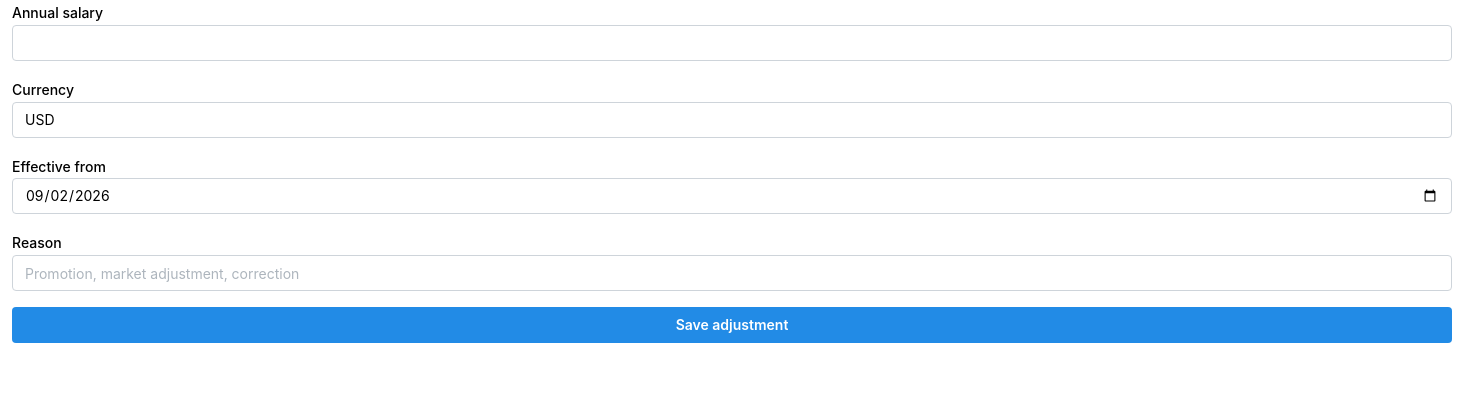
Test: requires a reason
In the field labelled "Annual salary": (732, 43) x1=12 y1=25 x2=1452 y2=61, type "120000"
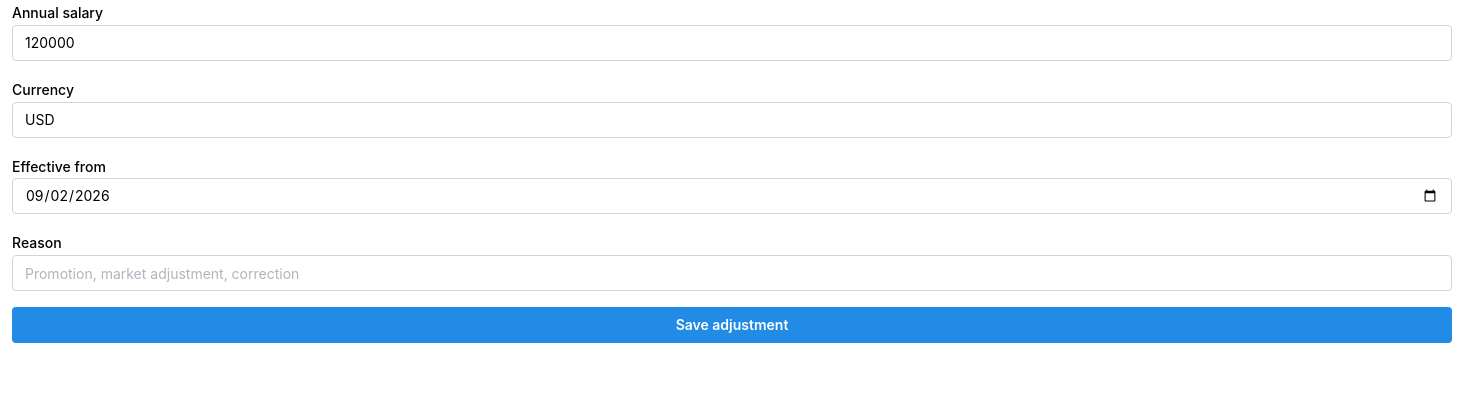
Click the button "Save adjustment": (732, 325) x1=12 y1=307 x2=1452 y2=343
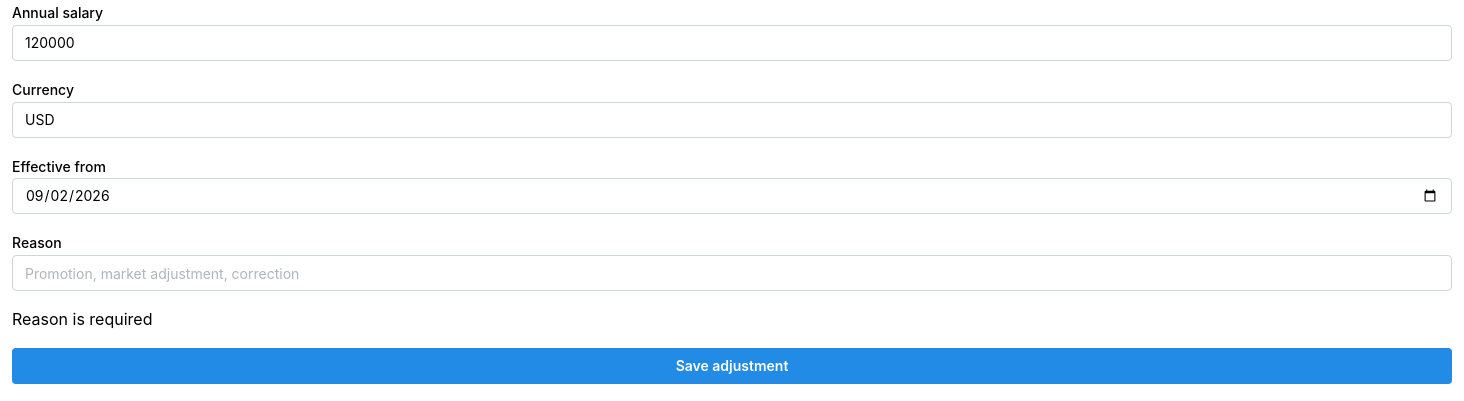
Expected: the message reads "Reason is required", x1=12 y1=309 x2=152 y2=329
